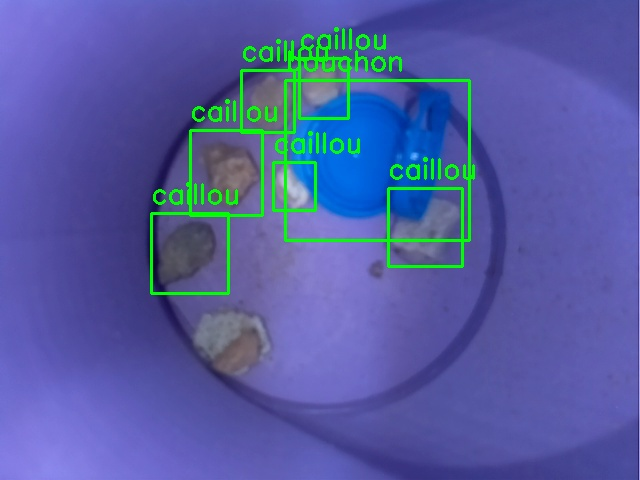bouchon: (285, 80, 469, 240)
caillou: (151, 213, 228, 293), (190, 130, 262, 215), (388, 188, 462, 266), (241, 70, 294, 132), (299, 58, 348, 118), (273, 162, 315, 210)
